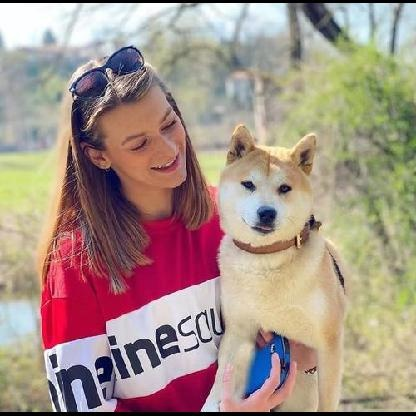人: (37, 46, 318, 416)
狗: (198, 125, 343, 412)
